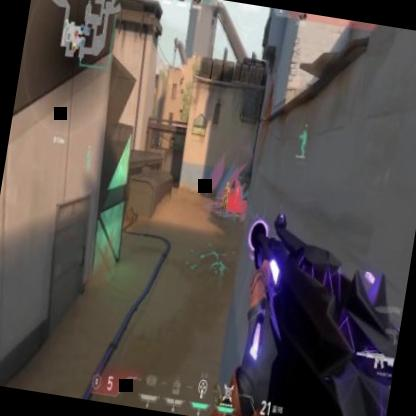enemy: (219, 180, 231, 216)
enemy_head: (226, 181, 230, 188)
